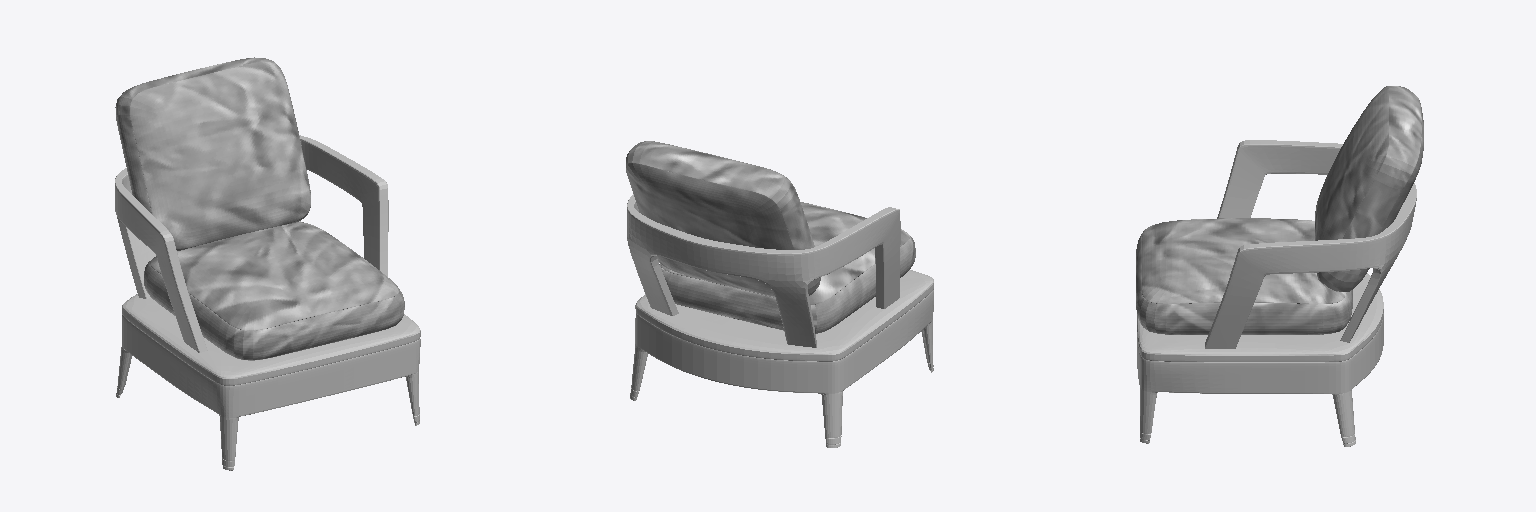
3 renders of one model, left to right at view 1: azimuth 30°, elevation 25°; view 2: azimuth 150°, elevation 25°; view 3: azimuth 270°, elevation 25°, orthographic.
Visible parts, largest first — view 1: garden_001_garden_001_wire_[number redacted], garden_002_garden_002_wire_[number redacted]; view 2: garden_002_garden_002_wire_[number redacted], garden_001_garden_001_wire_[number redacted]; view 3: garden_002_garden_002_wire_[number redacted], garden_001_garden_001_wire_[number redacted].
Part boxes in pixels (x1,y1,x2,y2): garden_001_garden_001_wire_[number redacted]: (115, 57, 404, 360); garden_002_garden_002_wire_[number redacted]: (115, 135, 420, 470); garden_002_garden_002_wire_[number redacted]: (627, 194, 933, 447); garden_001_garden_001_wire_[number redacted]: (626, 141, 915, 333); garden_002_garden_002_wire_[number redacted]: (1137, 140, 1416, 446); garden_001_garden_001_wire_[number redacted]: (1136, 86, 1423, 334).
Size of the model in its own units: 154 by 186 by 173.
Materials: 2 (1 with a texture image).